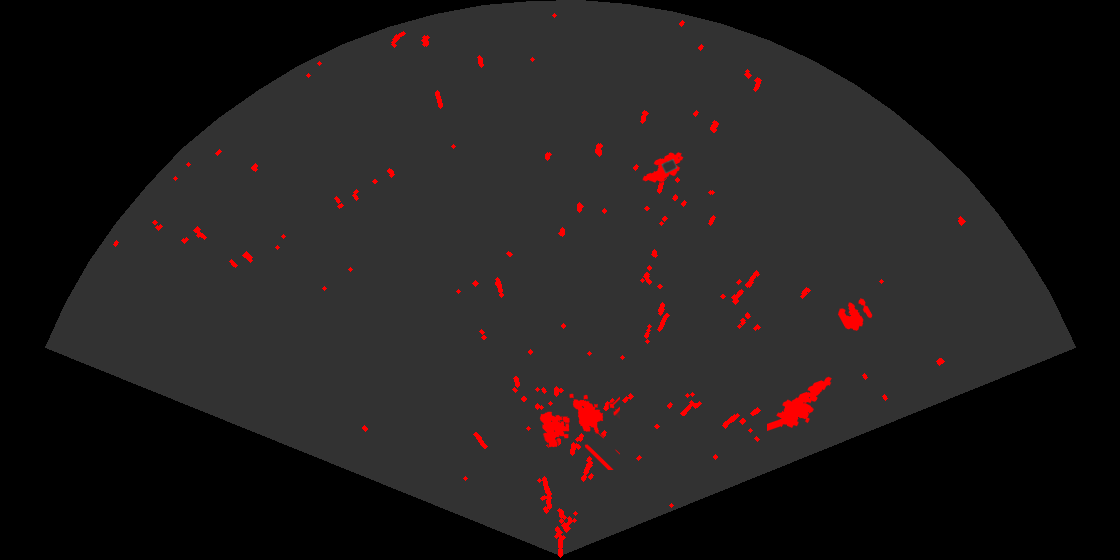AUV: (641, 151, 685, 184)
ball: (836, 297, 874, 332)
cage: (538, 392, 620, 470)
frogman: (767, 375, 833, 433)
